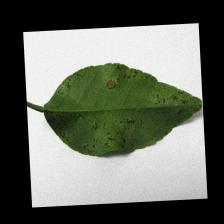canker: (93, 117, 160, 148)
